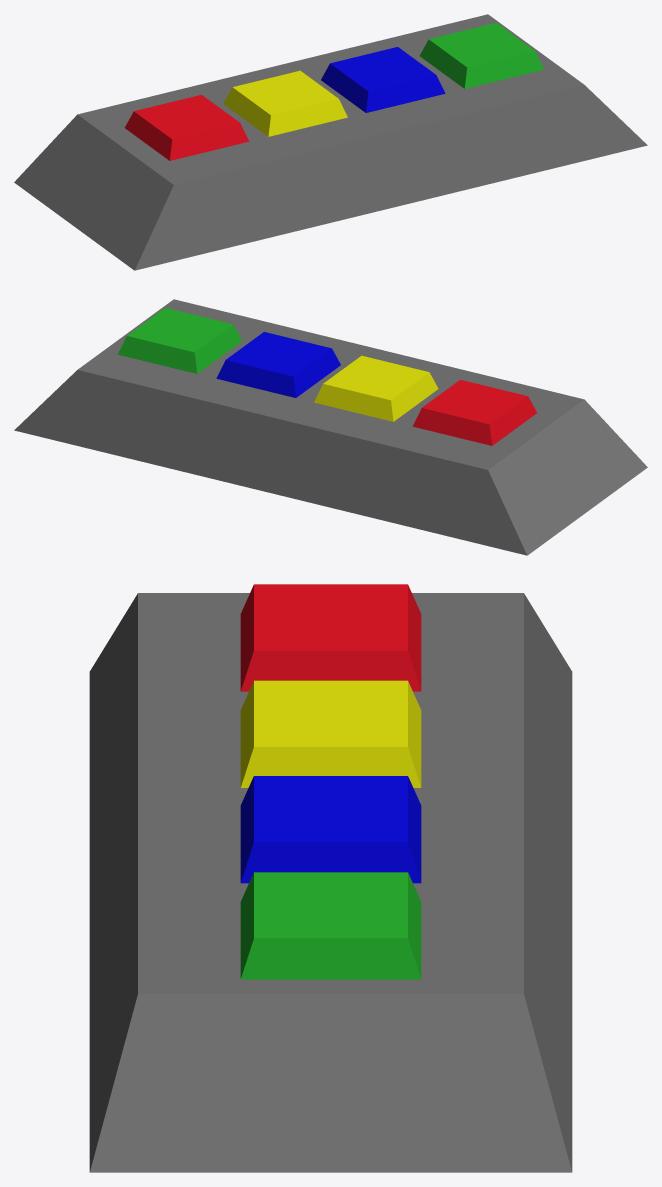
The model's file is Panel.fbx.
3 views of the same model, one above another, from view 1: azimuth 30°, elevation 25°; view 2: azimuth 150°, elevation 25°; view 3: azimuth 270°, elevation 25° (orthographic). The views are drawn at different scales.
Parts seen in each view (by area): view 1: Cube.001, Cube.003, Cube.005, Cube.002, Cube.004; view 2: Cube.001, Cube.003, Cube.005, Cube.002, Cube.004; view 3: Cube.001, Cube.005, Cube.004, Cube.002, Cube.003.
Boxes of the visible parts, box(x1,y1,x2,y2) form: Cube.001: box(14, 14, 647, 270); Cube.003: box(223, 70, 347, 136); Cube.005: box(419, 23, 543, 88); Cube.002: box(125, 94, 249, 160); Cube.004: box(321, 47, 445, 112); Cube.001: box(14, 299, 647, 555); Cube.003: box(314, 355, 438, 421); Cube.005: box(118, 308, 242, 373); Cube.002: box(412, 379, 536, 445); Cube.004: box(216, 332, 340, 397); Cube.001: box(89, 593, 572, 1172); Cube.005: box(240, 872, 421, 979); Cube.004: box(240, 776, 421, 883); Cube.002: box(240, 584, 421, 691); Cube.003: box(240, 680, 421, 787).
Bounding box in the file's own units: 492 × 75.05 × 200.
